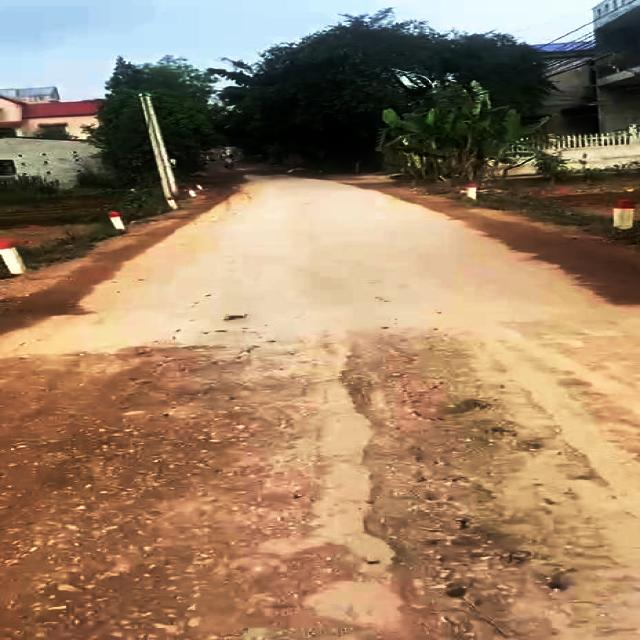pothole: (325, 342, 637, 640)
